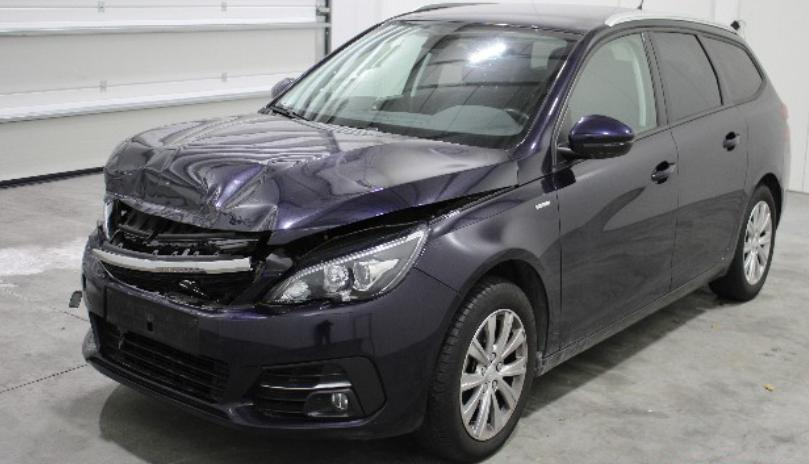Back-door: (646, 26, 747, 292)
Back-wheel: (709, 182, 776, 302)
Back-window: (654, 33, 721, 120), (704, 36, 761, 101)
Fender: (411, 174, 562, 357)
Front-bumper: (81, 245, 465, 440)
Front-door: (551, 26, 679, 351)
Front-wheel: (411, 277, 537, 461)
Front-window: (557, 31, 657, 145)
Grille: (90, 246, 254, 303)
Headlight: (256, 223, 429, 312)
Hood: (102, 113, 518, 244)
Mirror: (556, 114, 634, 166), (272, 78, 296, 101)
Quarter-panel: (722, 81, 790, 261)
Rocker-panel: (532, 256, 731, 381)
Roof: (390, 3, 736, 36)
Windshield: (262, 20, 584, 150)
